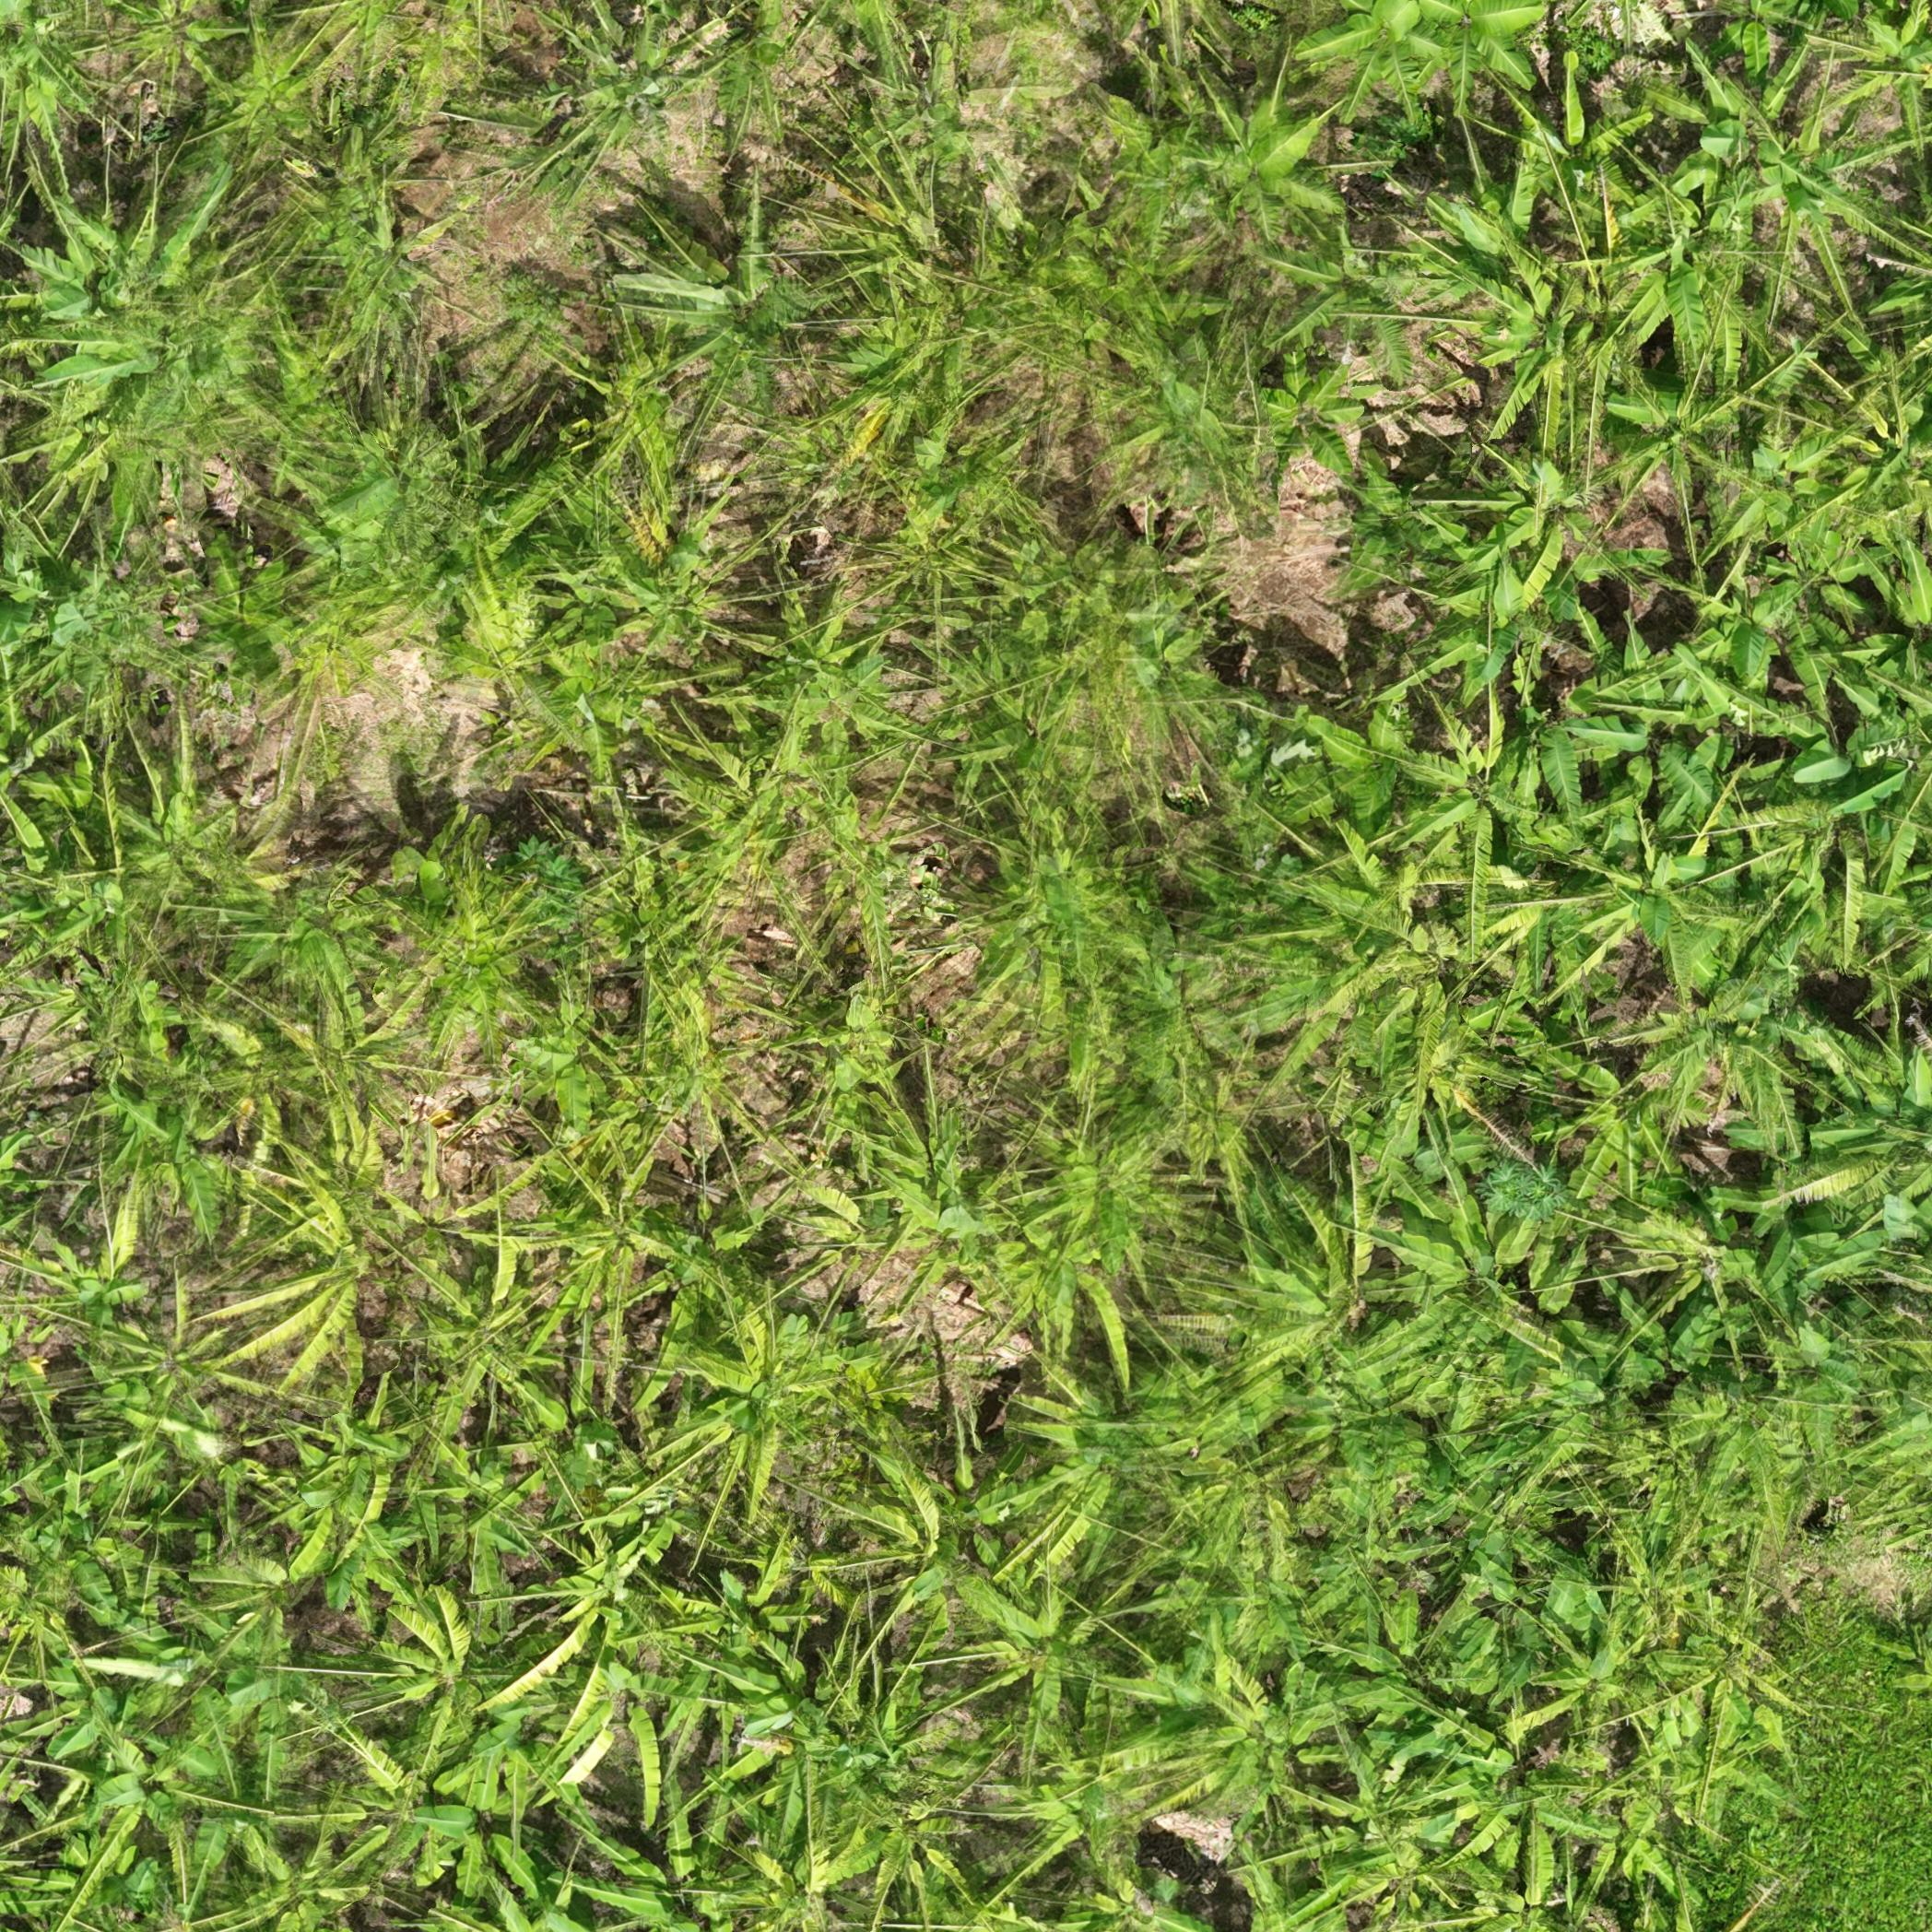Banana: (1398, 216, 1647, 442), (617, 163, 824, 414), (1385, 678, 1569, 904), (354, 1569, 541, 1753), (1177, 62, 1353, 255), (961, 1569, 1125, 1759), (1541, 1039, 1725, 1198), (402, 1741, 552, 1907), (1253, 340, 1376, 485), (1309, 4, 1442, 133), (101, 2, 246, 111)
